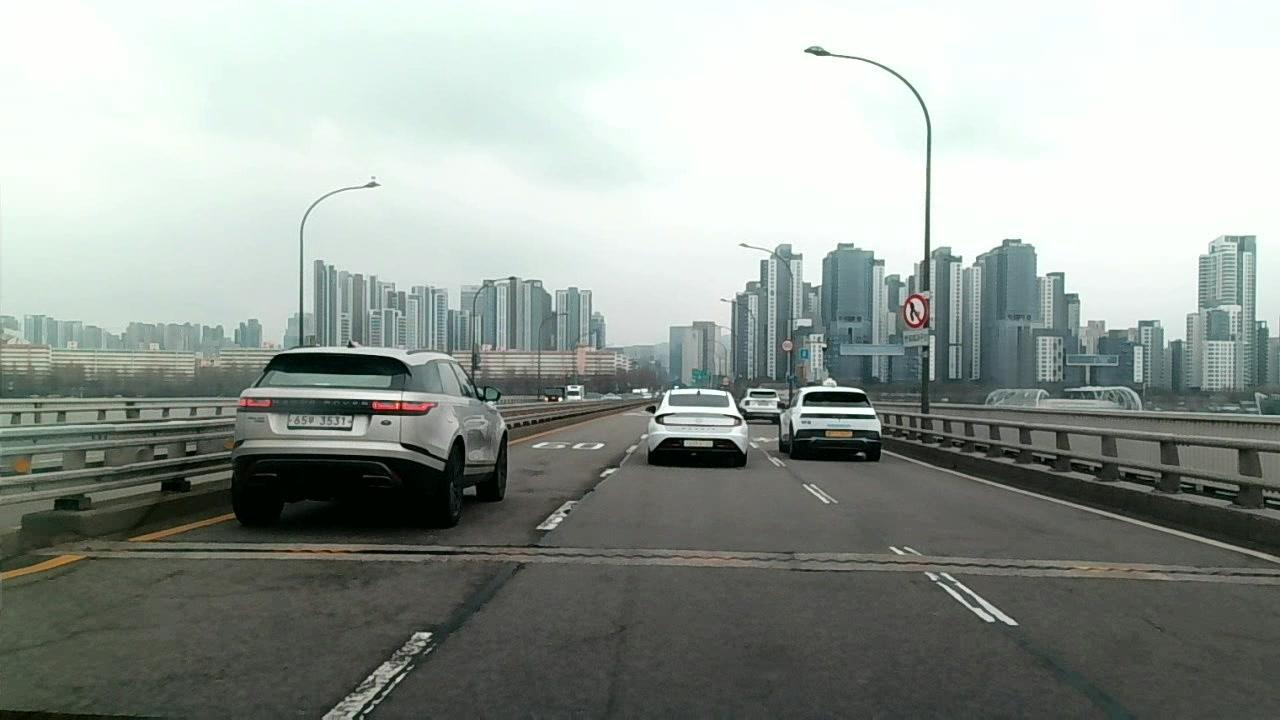hcrack: (523, 545, 918, 571), (940, 557, 1266, 583), (92, 541, 503, 558)
vcrack: (402, 560, 509, 673), (536, 474, 605, 544)
